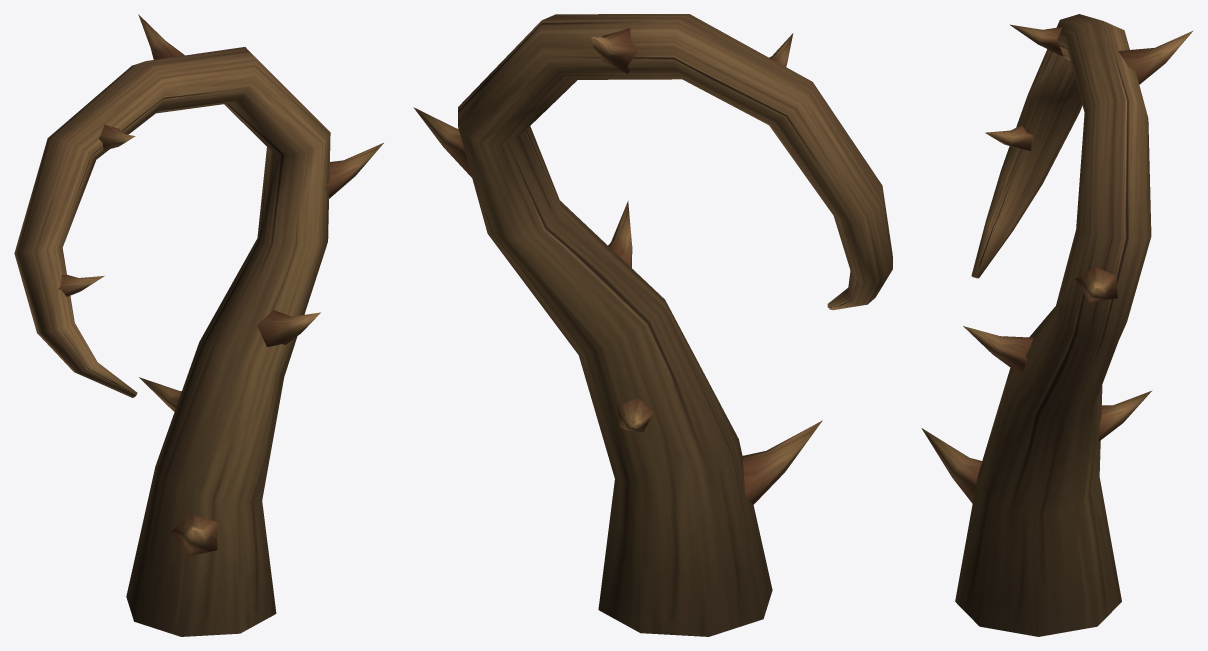
Rendered from plant_a8.fbx.
3 renders of one model, left to right at view 1: azimuth 30°, elevation 25°; view 2: azimuth 150°, elevation 25°; view 3: azimuth 270°, elevation 25°, orthographic. The views are drawn at different scales.
Visible parts, largest first — view 1: plant_a8:Mesh; view 2: plant_a8:Mesh; view 3: plant_a8:Mesh.
Part boxes in pixels (x1,y1,x2,y2): plant_a8:Mesh: [14, 14, 383, 636]; plant_a8:Mesh: [413, 14, 892, 636]; plant_a8:Mesh: [921, 14, 1193, 636].
Size of the model in its own units: 11.49 by 15.3 by 6.57.
